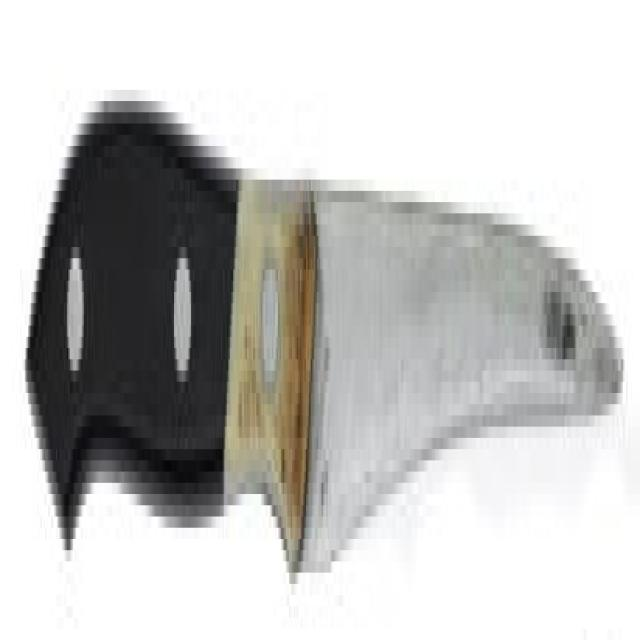knife: (24, 47, 631, 619)
